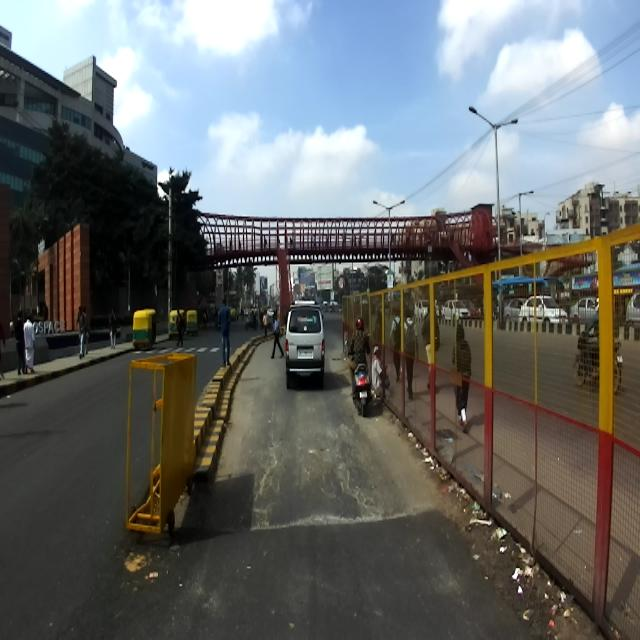barrier ahead at: (118, 338, 200, 546)
car ahead at: (282, 301, 332, 387)
motorcycle ahead at: (349, 355, 372, 416)
person ahead at: (210, 292, 237, 370), (268, 306, 284, 361)
